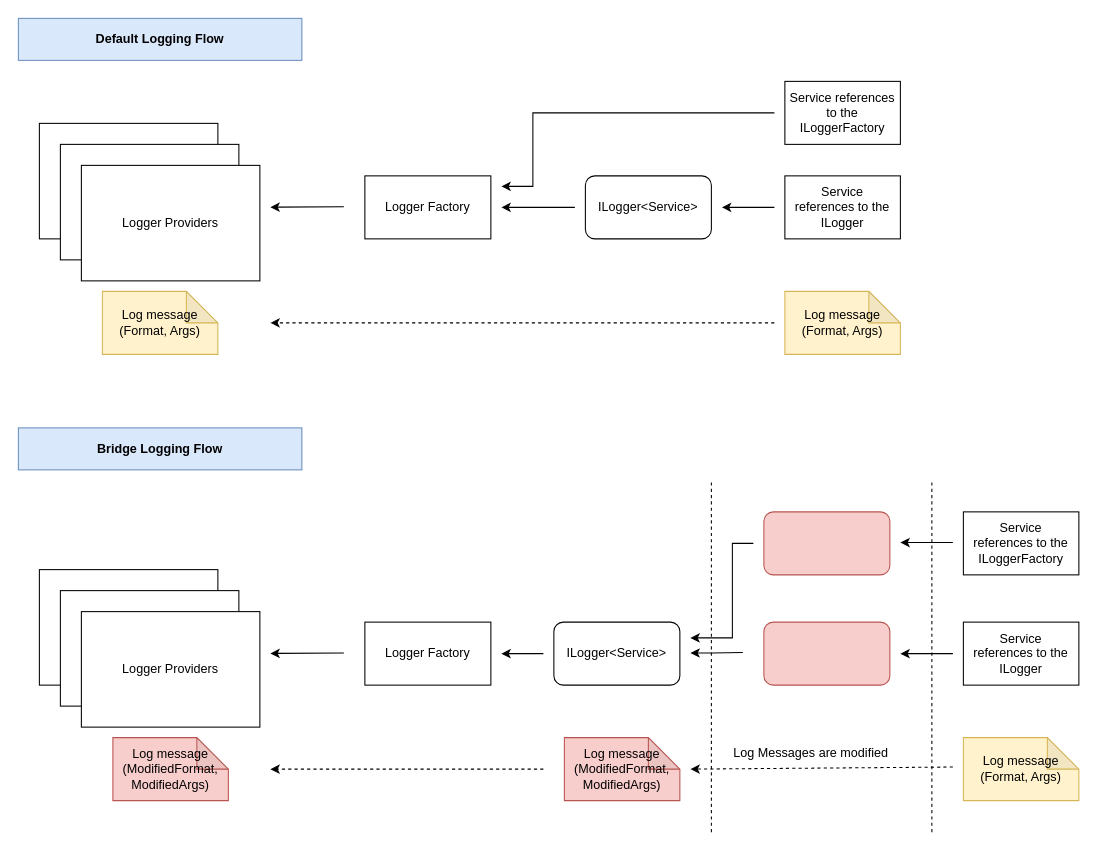
Some shapes in this 1097 by 852 pixel diagram are drawn without their labels. Here are the shapes that lost their labels. From the top down, the centre of each, then its label:
At (x=826, y=543): "BridgeFactory ILoggerFactory".
At (x=826, y=653): "BridgeLogger ILogger<Service>".
